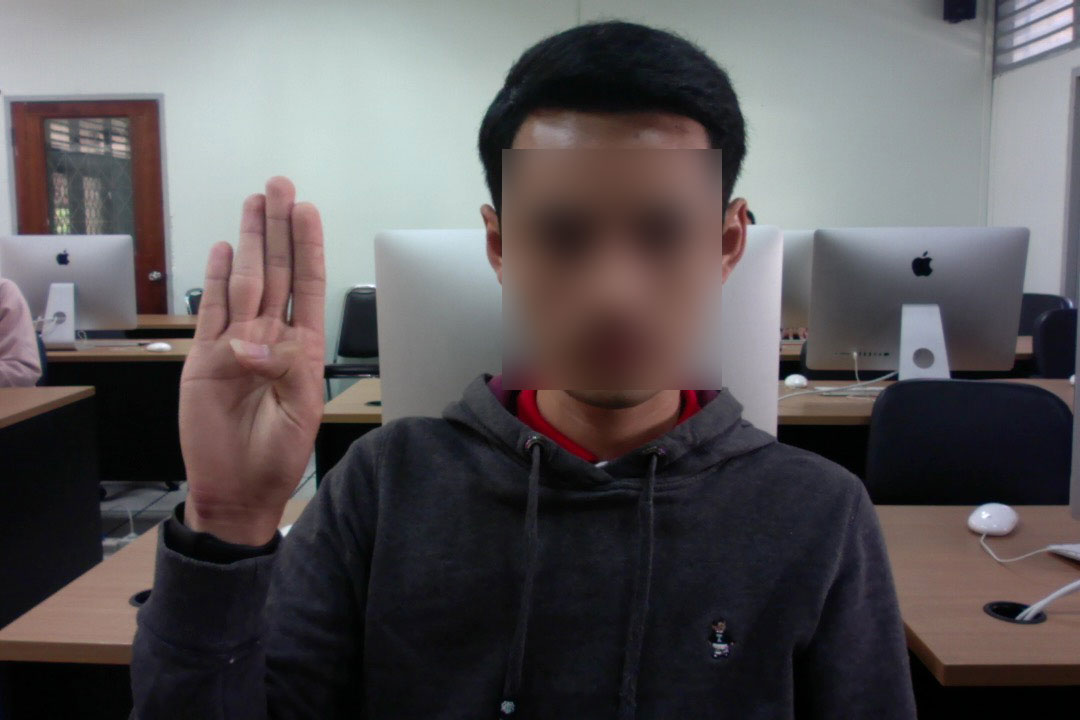bor: (167, 168, 347, 594)
